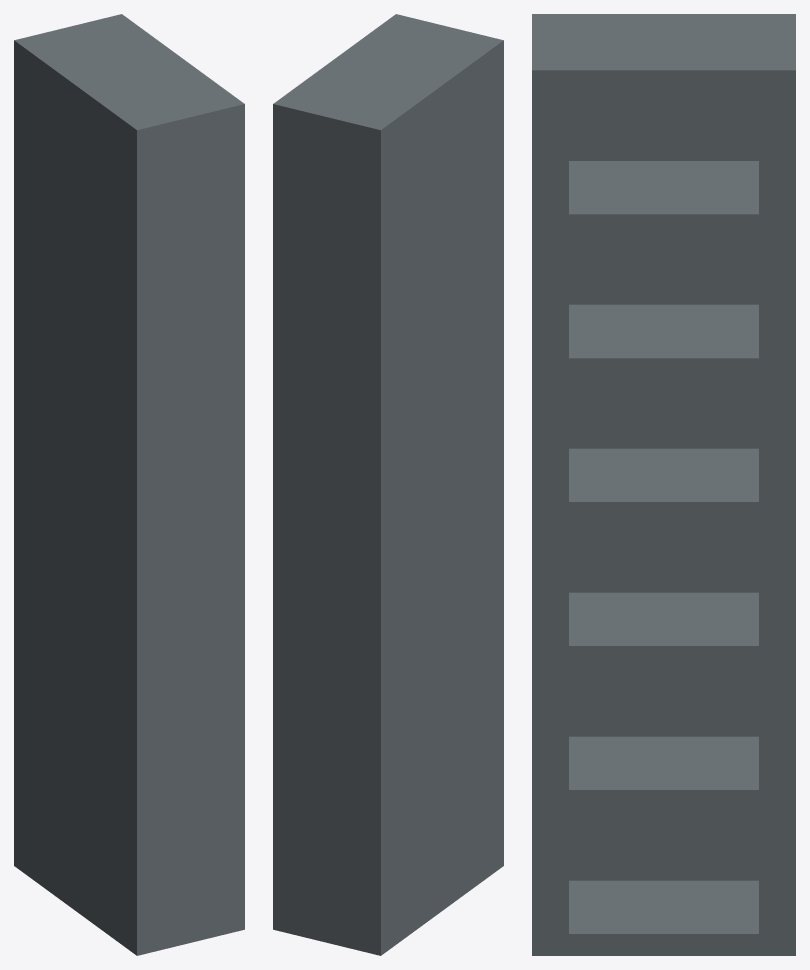
File: Armario02.fbx
3 views of the same model, side by side, from view 1: azimuth 30°, elevation 25°; view 2: azimuth 150°, elevation 25°; view 3: azimuth 270°, elevation 25° (orthographic). The views are drawn at different scales.
Visible parts, largest first — view 1: Armario02; view 2: Armario02; view 3: Armario02.
Boxes of the visible parts, left/top/right/bottom form: Armario02: left=14, top=14, right=244, bottom=955; Armario02: left=273, top=14, right=503, bottom=955; Armario02: left=532, top=14, right=795, bottom=955.
Bounding box in the file's own units: 202 × 1482 × 400.
